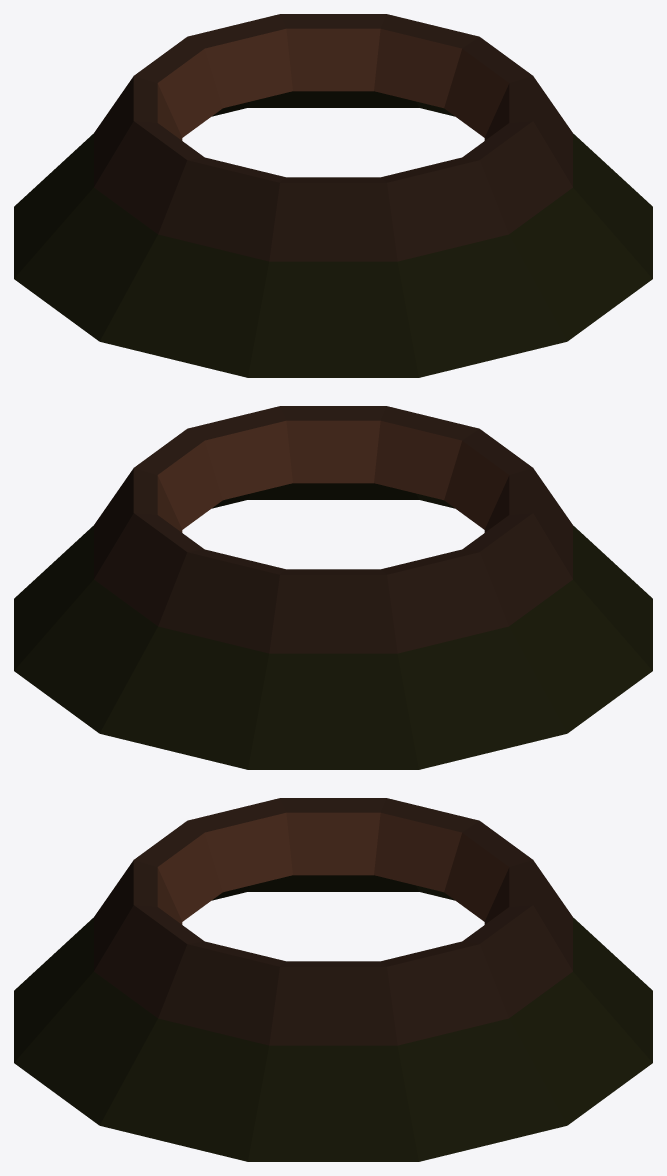
File: Volcano.fbx
3 renders of one model, top to bottom at view 1: azimuth 30°, elevation 25°; view 2: azimuth 150°, elevation 25°; view 3: azimuth 270°, elevation 25°, orthographic.
Parts seen in each view (by area): view 1: cylinder; view 2: cylinder; view 3: cylinder.
Boxes of the visible parts, left/top/right/bottom form: cylinder: left=14, top=14, right=652, bottom=377; cylinder: left=14, top=406, right=652, bottom=769; cylinder: left=14, top=798, right=652, bottom=1161.
Size of the model in its own units: 5562 by 1388 by 5562.
Materials: 1 (1 with a texture image).
